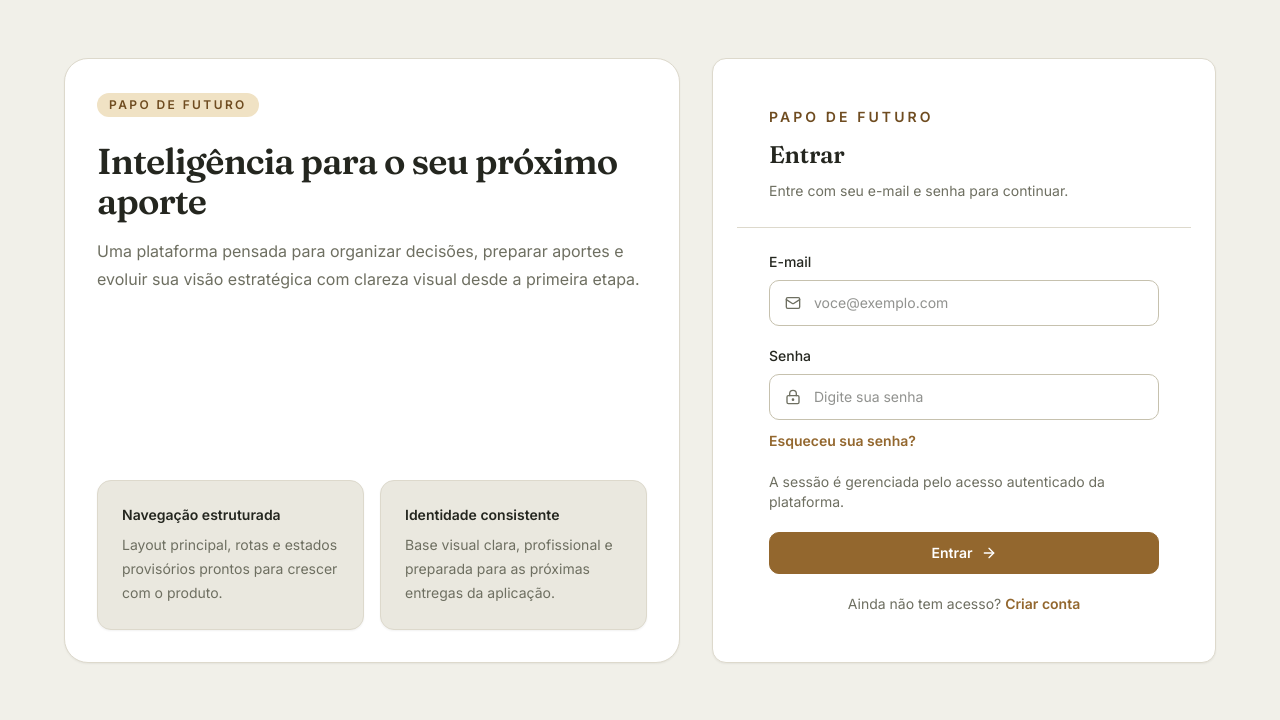
LoginPage › shows a friendly message when the credentials are invalid
Type "a@b.com" into the field labelled "E-mail" at [964, 302], box [769,280,1159,326]
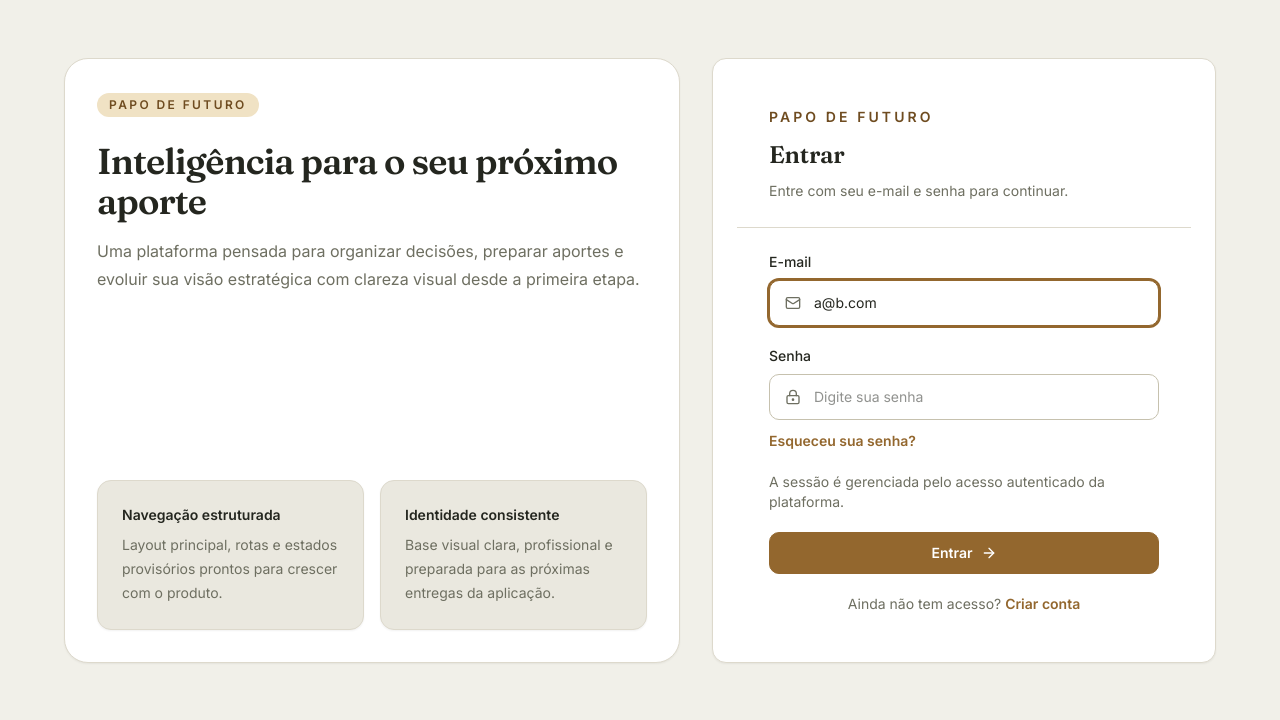
Type "errada" into the password field labelled "Senha" at [964, 396], box [769,374,1159,420]
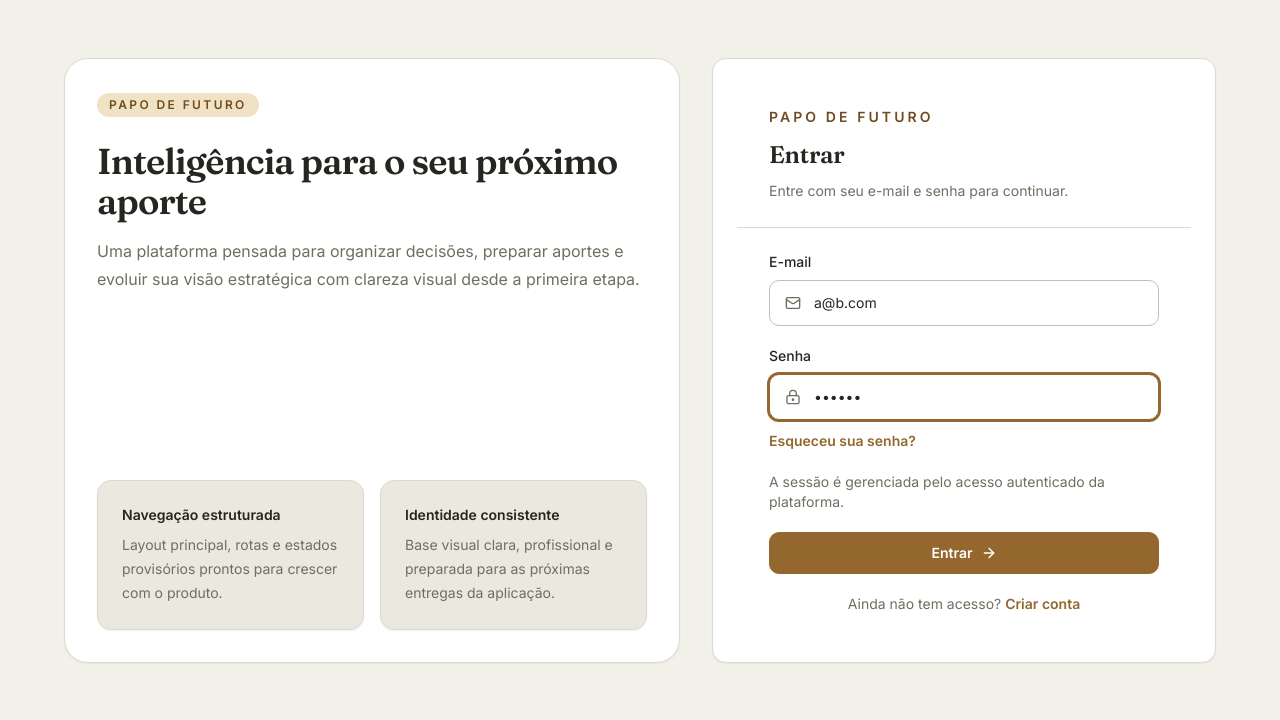
Click the button "Entrar" at [964, 552], box [769,532,1159,574]
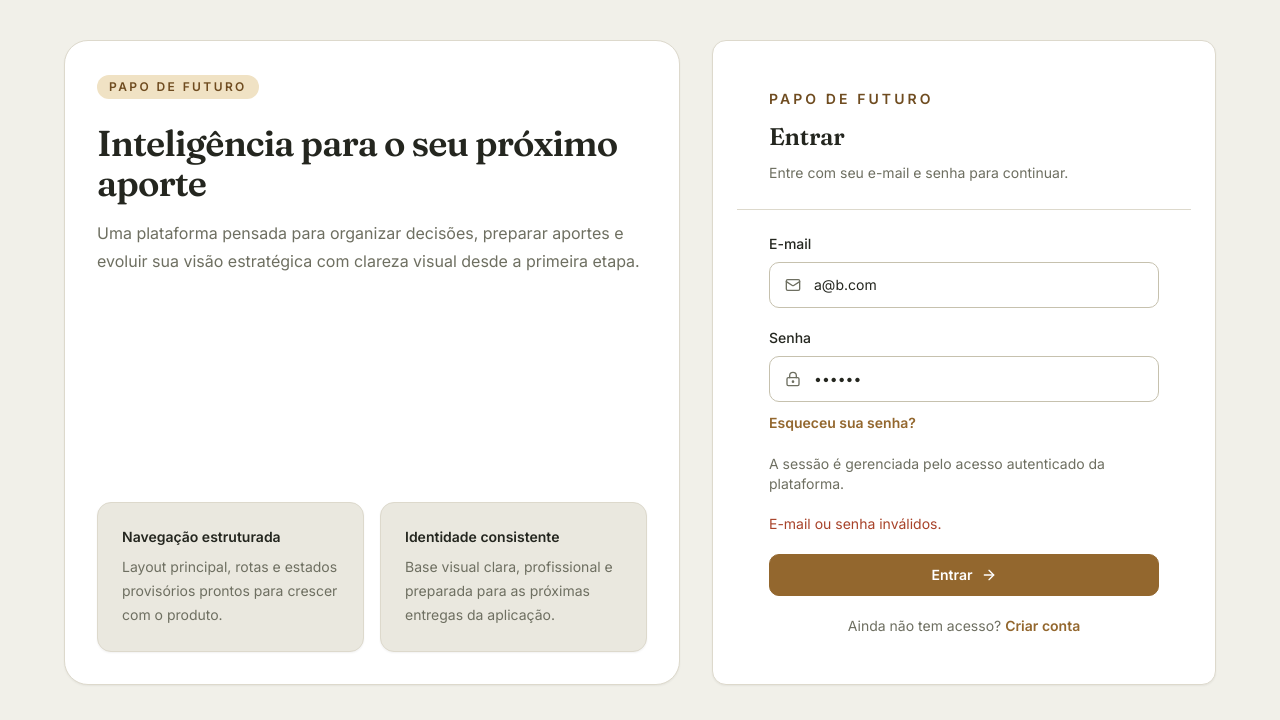
Expected: the text "E-mail ou senha inválidos." is shown, [769,515,942,532]
